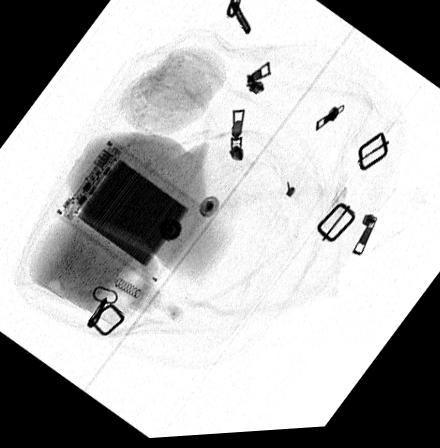Powerbank: (55, 138, 211, 286)
